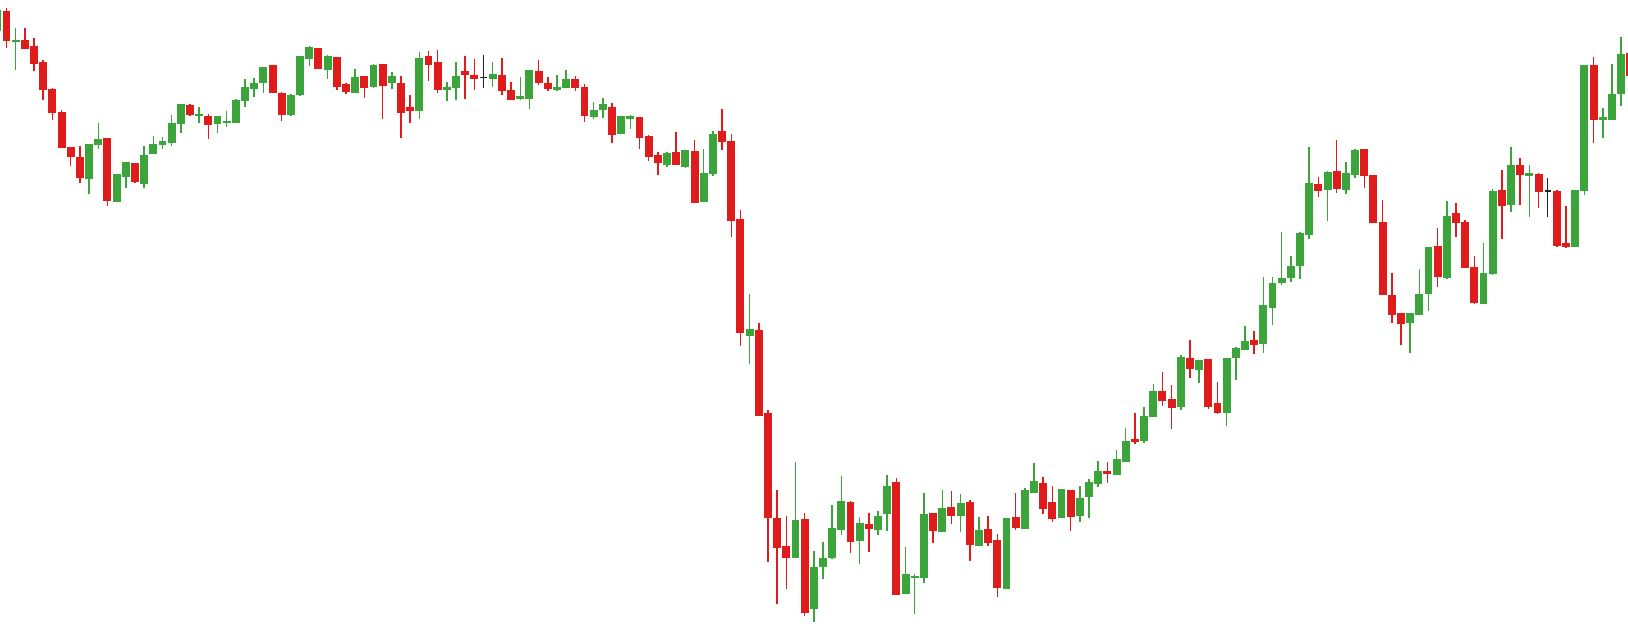buy: (1166, 362, 1234, 431)
